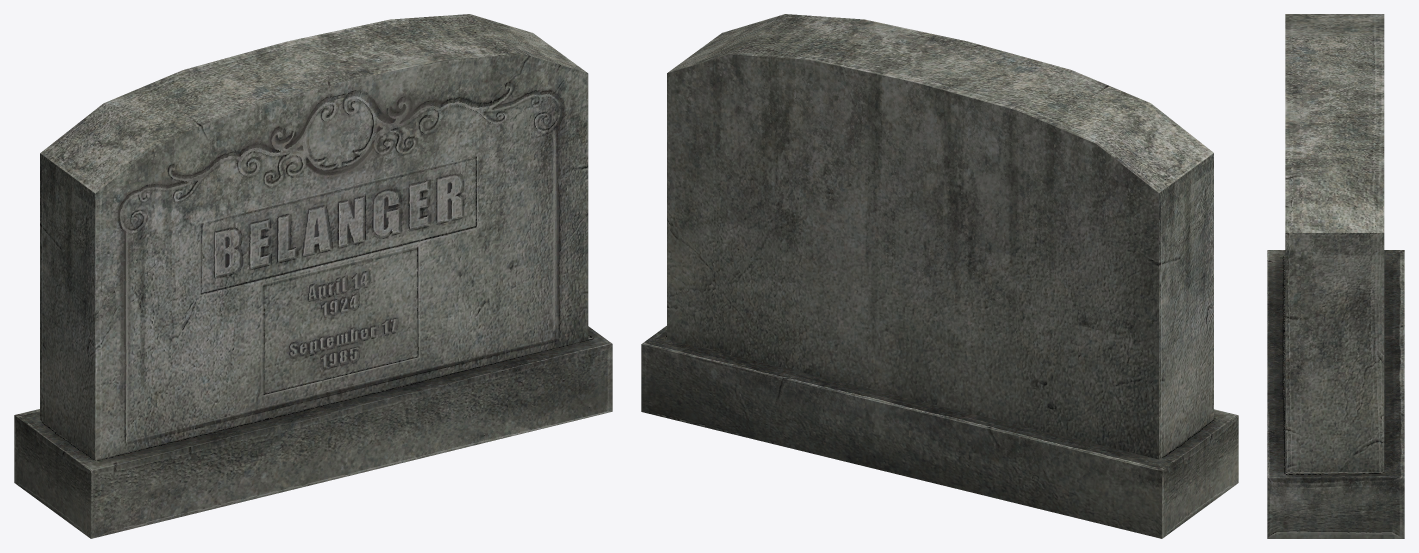
The model's file is Gravestone03.dae.
3 views of the same model, side by side, from view 1: azimuth 30°, elevation 25°; view 2: azimuth 150°, elevation 25°; view 3: azimuth 270°, elevation 25° (orthographic). The views are drawn at different scales.
Visible parts, largest first — view 1: Gravestone03; view 2: Gravestone03; view 3: Gravestone03.
Part boxes in pixels (x1,y1,x2,y2): Gravestone03: [14, 14, 612, 538]; Gravestone03: [641, 14, 1238, 538]; Gravestone03: [1267, 14, 1404, 538].
Size of the model in its own units: 1.66 by 0.4235 by 1.18.
